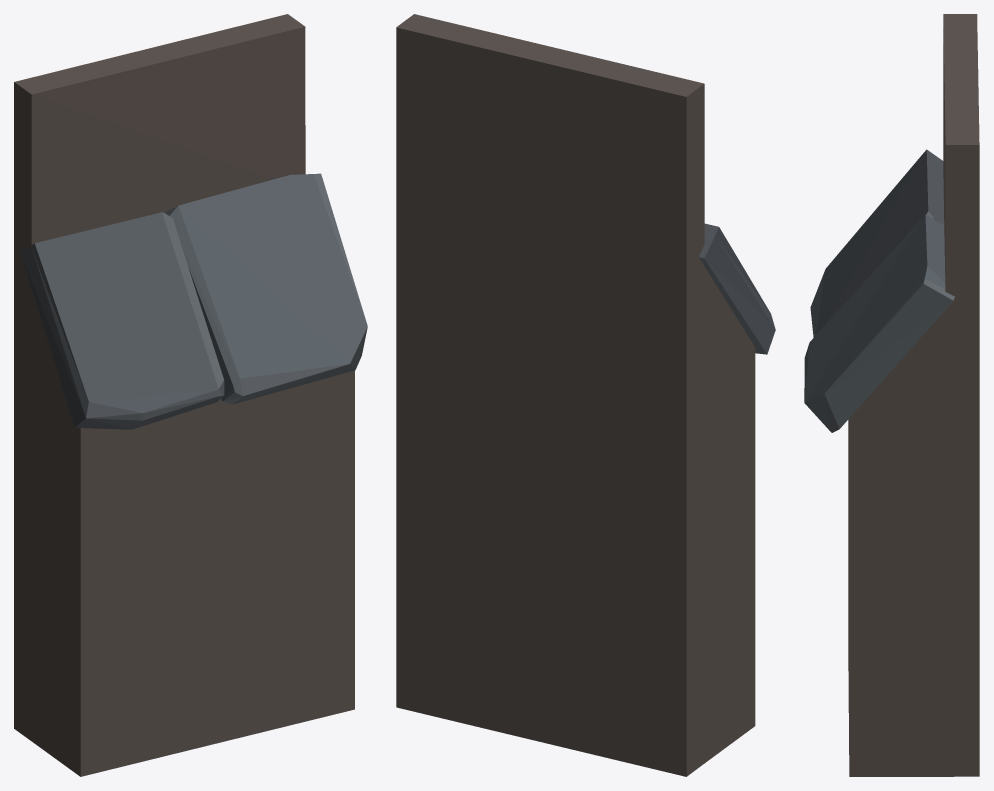
Rendered from MCastle_CropWalls_02.FBX.
3 renders of one model, left to right at view 1: azimuth 30°, elevation 25°; view 2: azimuth 150°, elevation 25°; view 3: azimuth 270°, elevation 25°, orthographic. The views are drawn at different scales.
Visible parts, largest first — view 1: MCastle_CropWalls_02_LOD0; view 2: MCastle_CropWalls_02_LOD0; view 3: MCastle_CropWalls_02_LOD0.
Boxes of the visible parts, x1,y1,x2,y2 form: MCastle_CropWalls_02_LOD0: [14, 14, 367, 776]; MCastle_CropWalls_02_LOD0: [396, 14, 775, 776]; MCastle_CropWalls_02_LOD0: [804, 14, 979, 776].
Size of what is drawn, in the model's own units: 2.1 by 4.5 by 1.13.
